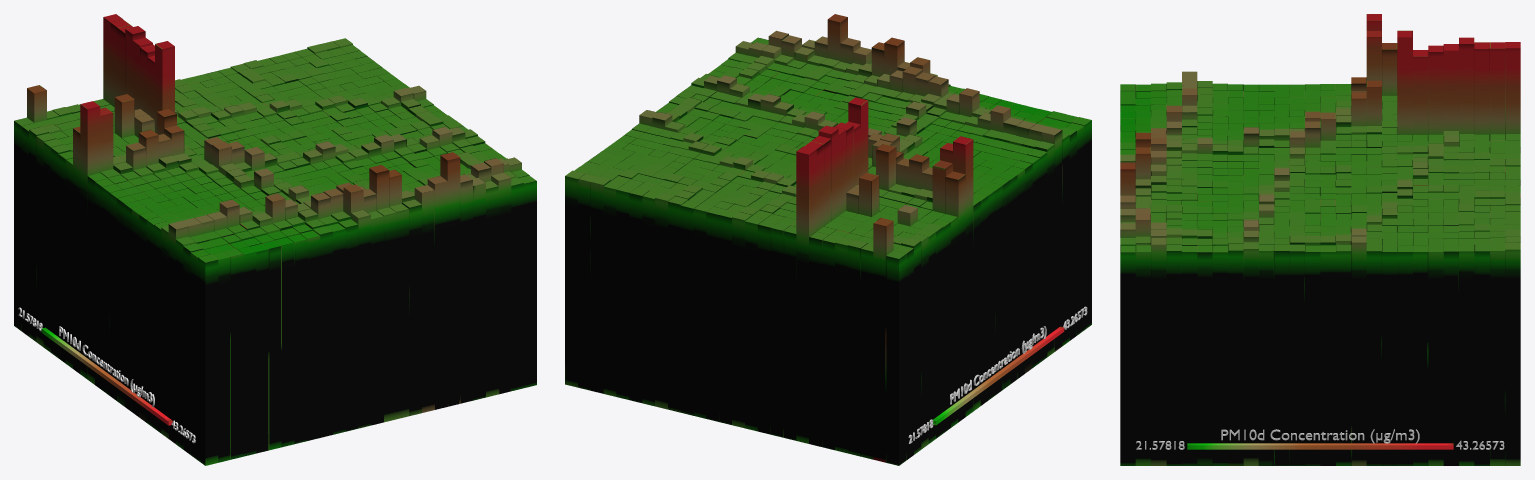
3 renders of one model, left to right at view 1: azimuth 30°, elevation 25°; view 2: azimuth 150°, elevation 25°; view 3: azimuth 270°, elevation 25°, orthographic. The views are drawn at different scales.
Parts seen in each view (by area): view 1: Cube.381, Cube.002, Text.001; view 2: Cube.381, Cube.002, Text.001; view 3: Cube.381, Cube.001, Text.003.
Boxes of the visible parts, x1=… form: Cube.381: x1=14, y1=14, x2=536, y2=465; Cube.002: x1=41, y1=327, x2=172, y2=425; Text.001: x1=59, y1=326, x2=154, y2=407; Cube.381: x1=565, y1=14, x2=1091, y2=465; Cube.002: x1=933, y1=326, x2=1064, y2=425; Text.001: x1=950, y1=326, x2=1046, y2=404; Cube.381: x1=1120, y1=14, x2=1520, y2=465; Cube.001: x1=1187, y1=443, x2=1453, y2=449; Text.003: x1=1221, y1=429, x2=1419, y2=443.
Bounding box in the file's own units: 51.18 × 42.75 × 49.78.
Materials: 3 (2 with a texture image).
